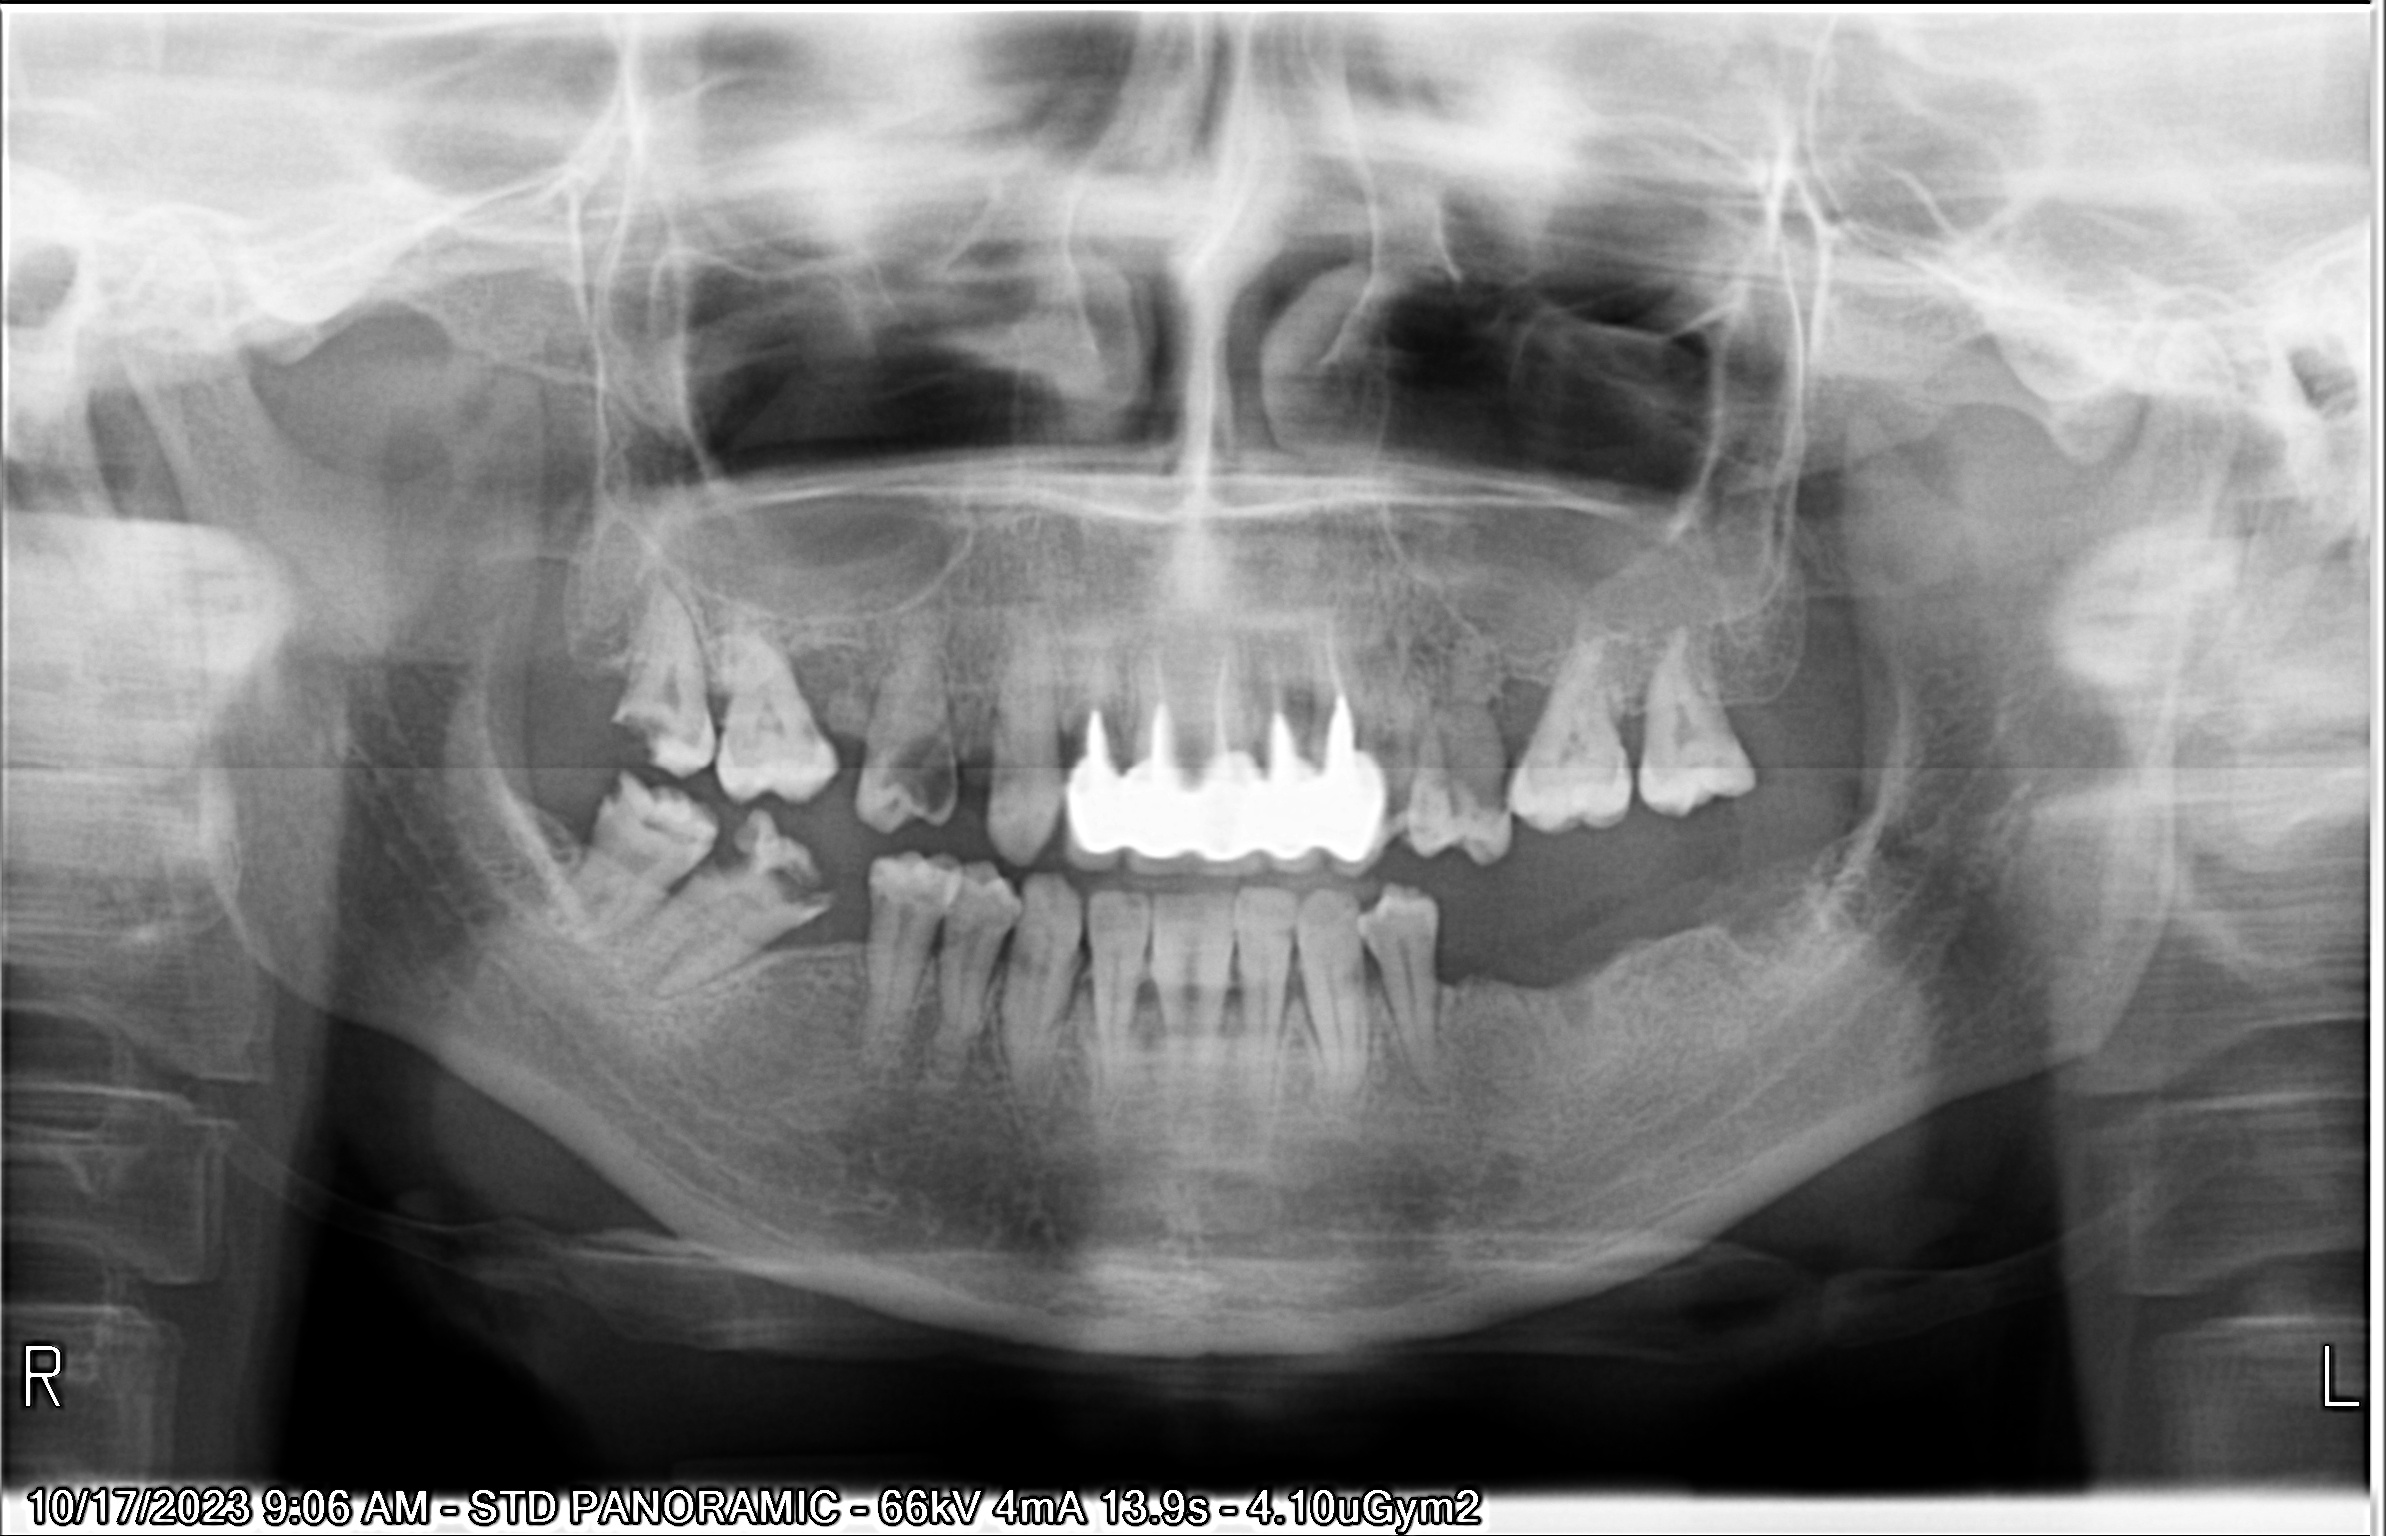BON: (614, 451, 1929, 1475), (583, 449, 1835, 1499), (523, 457, 1703, 1499), (713, 264, 2280, 1009), (513, 449, 1614, 1468)
CAR: (398, 303, 1362, 1132), (337, 393, 1186, 1317), (303, 371, 1082, 1259), (377, 332, 1202, 1084), (277, 381, 984, 1232), (266, 317, 944, 1084), (273, 362, 903, 1176)
END: (636, 257, 1996, 981), (610, 261, 1908, 986), (581, 254, 1821, 1000), (551, 280, 1727, 1004)
PRR: (336, 280, 1737, 1186)
